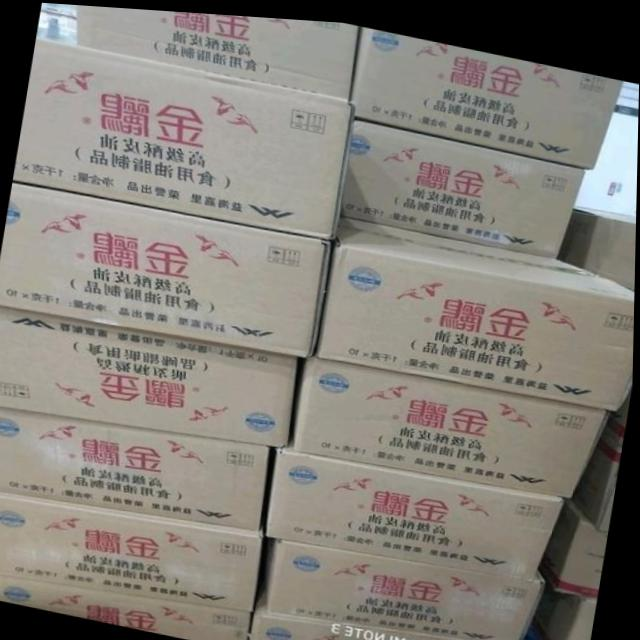box: (15, 38, 357, 235), (318, 211, 636, 402), (0, 184, 331, 354), (295, 351, 613, 490), (268, 430, 567, 576), (0, 306, 299, 443), (352, 22, 625, 161), (342, 114, 587, 251), (0, 407, 270, 527), (0, 491, 265, 608), (267, 535, 548, 640), (76, 4, 359, 95), (0, 575, 254, 640), (253, 588, 491, 640), (574, 376, 634, 525), (542, 489, 610, 590), (557, 197, 637, 282), (532, 574, 599, 640)
